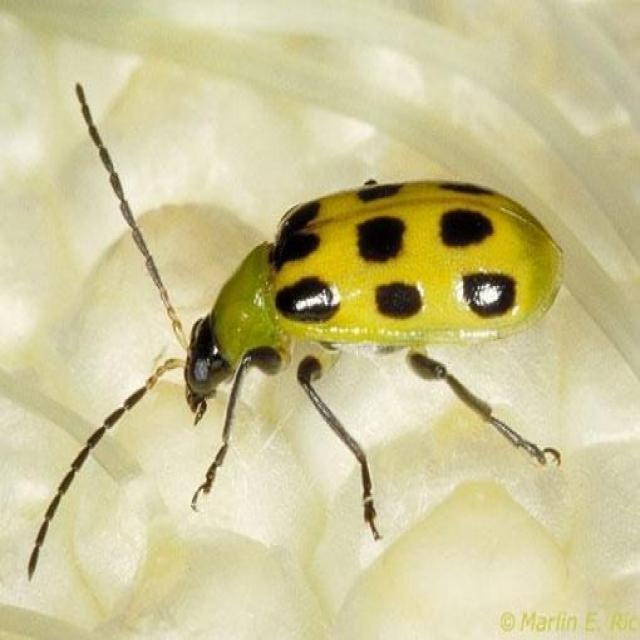gusano_verde: (29, 82, 560, 576)
